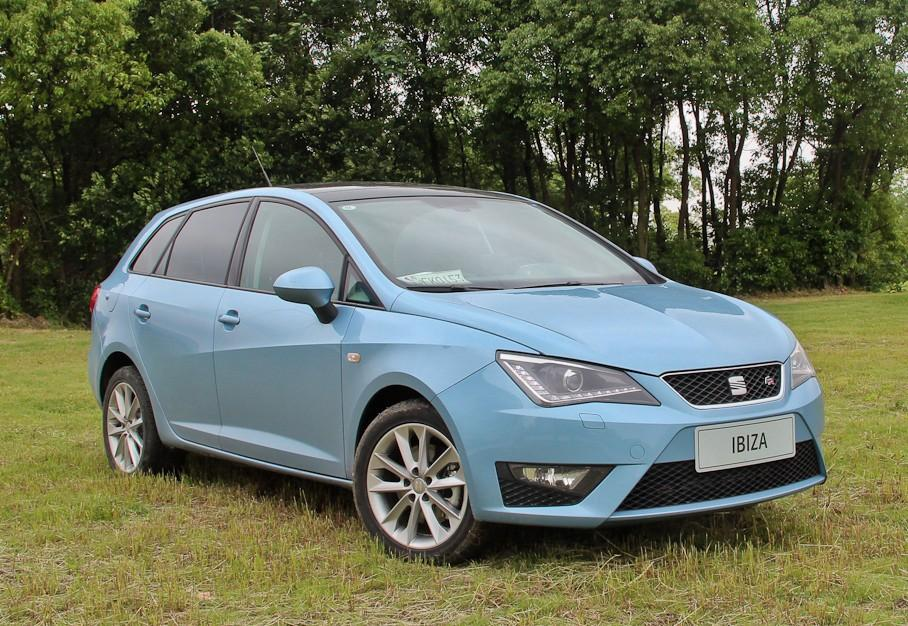Wagon: (88, 180, 827, 568)
